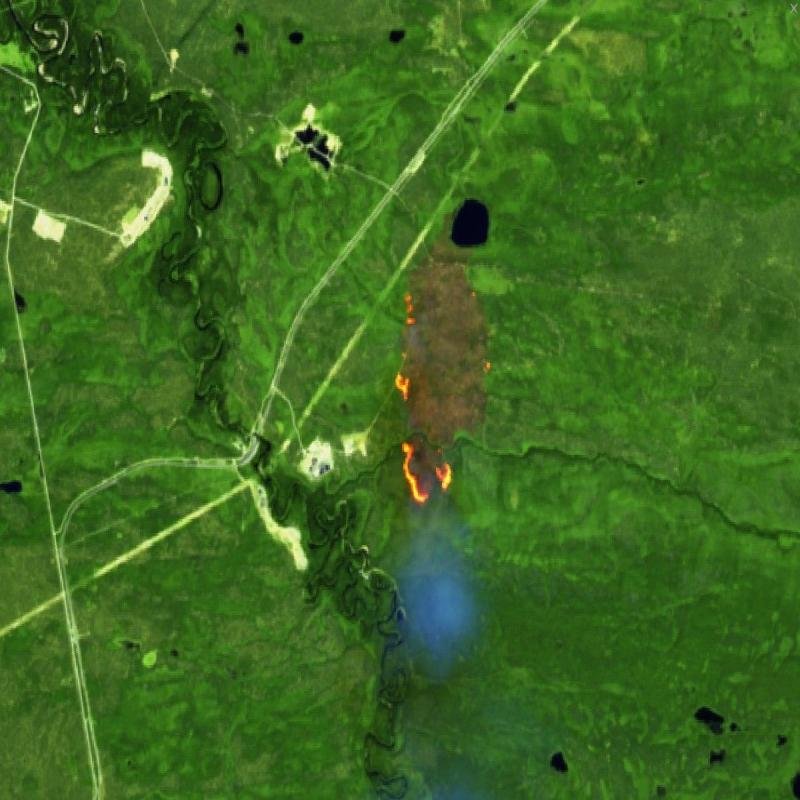fire: (388, 281, 459, 506)
